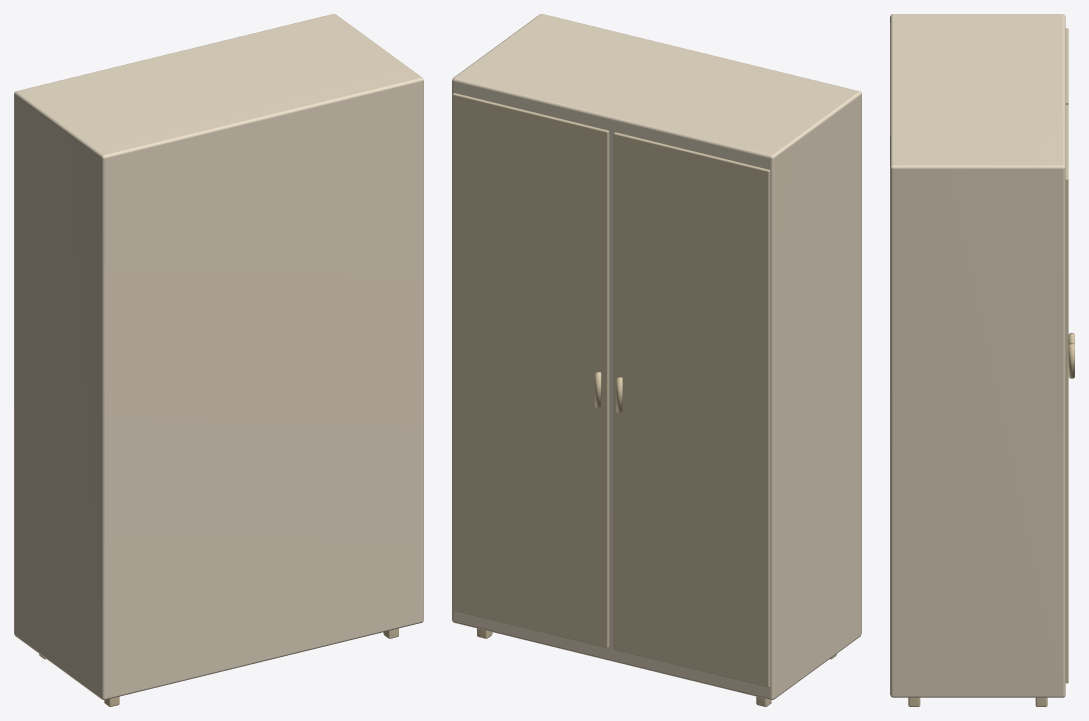
File: wardrobe.glb
3 views of the same model, side by side, from view 1: azimuth 30°, elevation 25°; view 2: azimuth 150°, elevation 25°; view 3: azimuth 270°, elevation 25° (orthographic). The views are drawn at different scales.
Visible parts, largest first — view 1: body; view 2: body; view 3: body.
Part boxes in pixels (left/top/right/bottom): body: left=14, top=14, right=423, bottom=706; body: left=452, top=14, right=861, bottom=706; body: left=890, top=14, right=1074, bottom=706.
Size of the model in its own units: 1.2 by 2 by 0.61.
